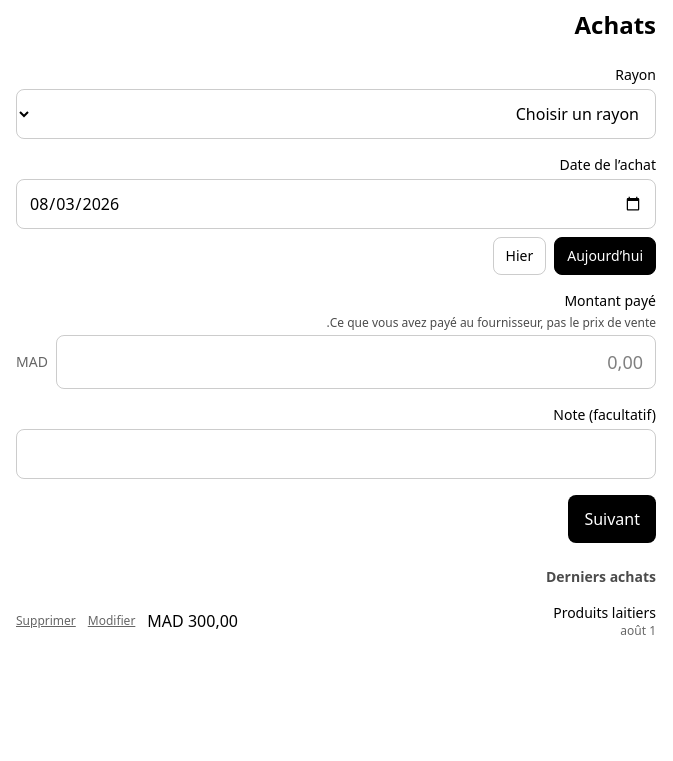
Test: editing a purchase (domain-spec §8.5) › loads the purchase into the first screen
Click the button with aria-label "Modifier — Produits laitiers". click: click(112, 621)
box: [88, 613, 135, 629]
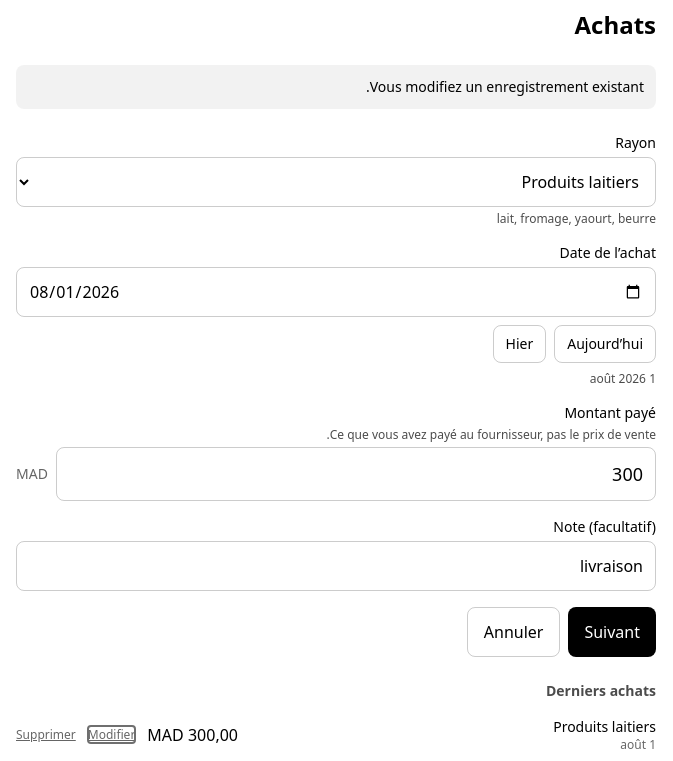
Expected: the field labelled "Montant payé" holds "300", [56, 447, 656, 501]
Expected: the date field labelled "Date de l’achat" holds "2026-08-01", [16, 267, 656, 317]
Expected: the text "Vous modifiez un enregistrement existant." is shown, [16, 65, 656, 109]
